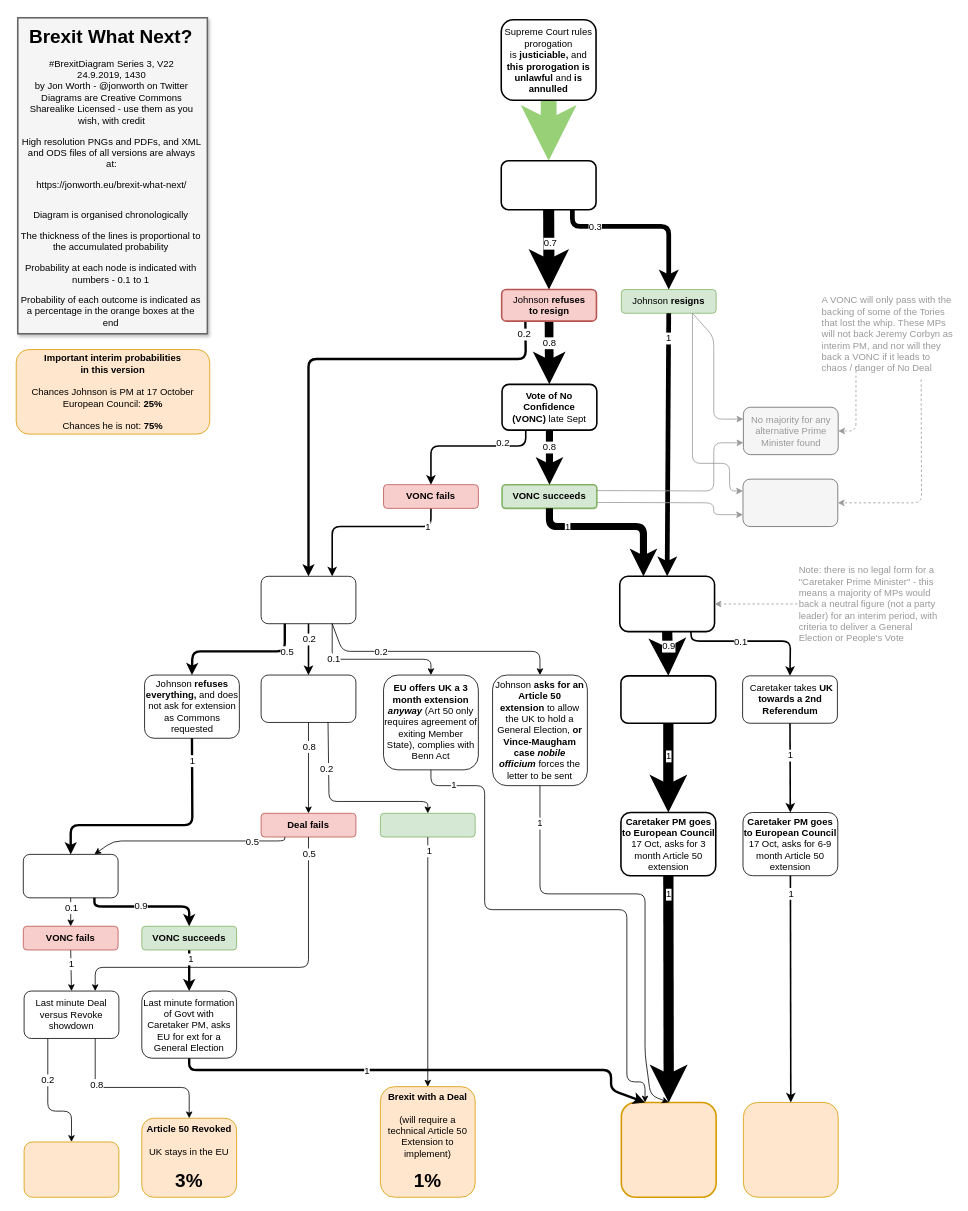
This 968x1211 diagram has some shape labels left out. The shapes that lost their labels are listed below. From the top down, each one's centre as x and y in pixels, then its label:
the point at 548,185: Commons sits again 24 September onwards
the point at 790,502: Majority for Corbyn as Prime Minister instead
the point at 308,600: Johson goes to the European Council 17 Oct
the point at 667,603: Opposition parties and ex-Tories unify behind a caretaker Prime Minister
the point at 308,698: Johnson gets a Deal that he brings back to the Commons
the point at 668,699: Caretaker takes UK towards a General Election
the point at 427,825: Deal passes
the point at 70,876: Vote of No Confidence (VONC) around 21 Oct
the point at 71,1169: No Deal 31 Oct 1%
the point at 668,1149: General Election before end of 2019 (requires 3 month Article 50 Extension) 88%
the point at 790,1149: 2nd Referendum sometime 2020 (requires 6-9 month Article 50 Extension) 7%
